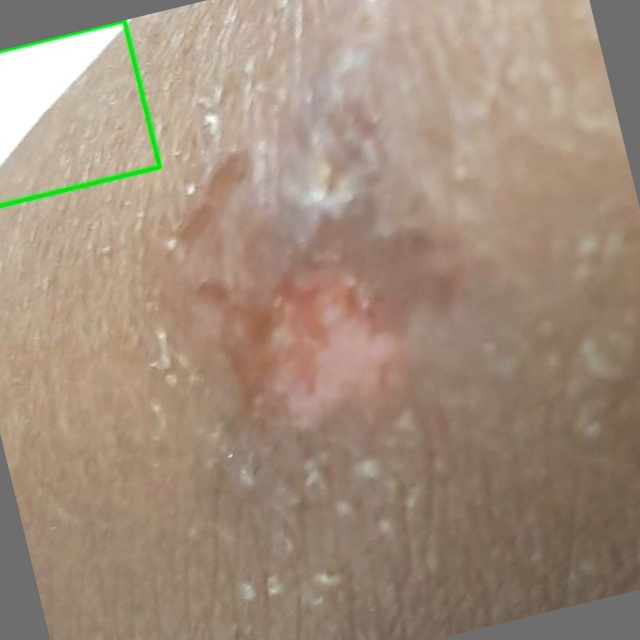Eczema: (0, 20, 161, 207)
